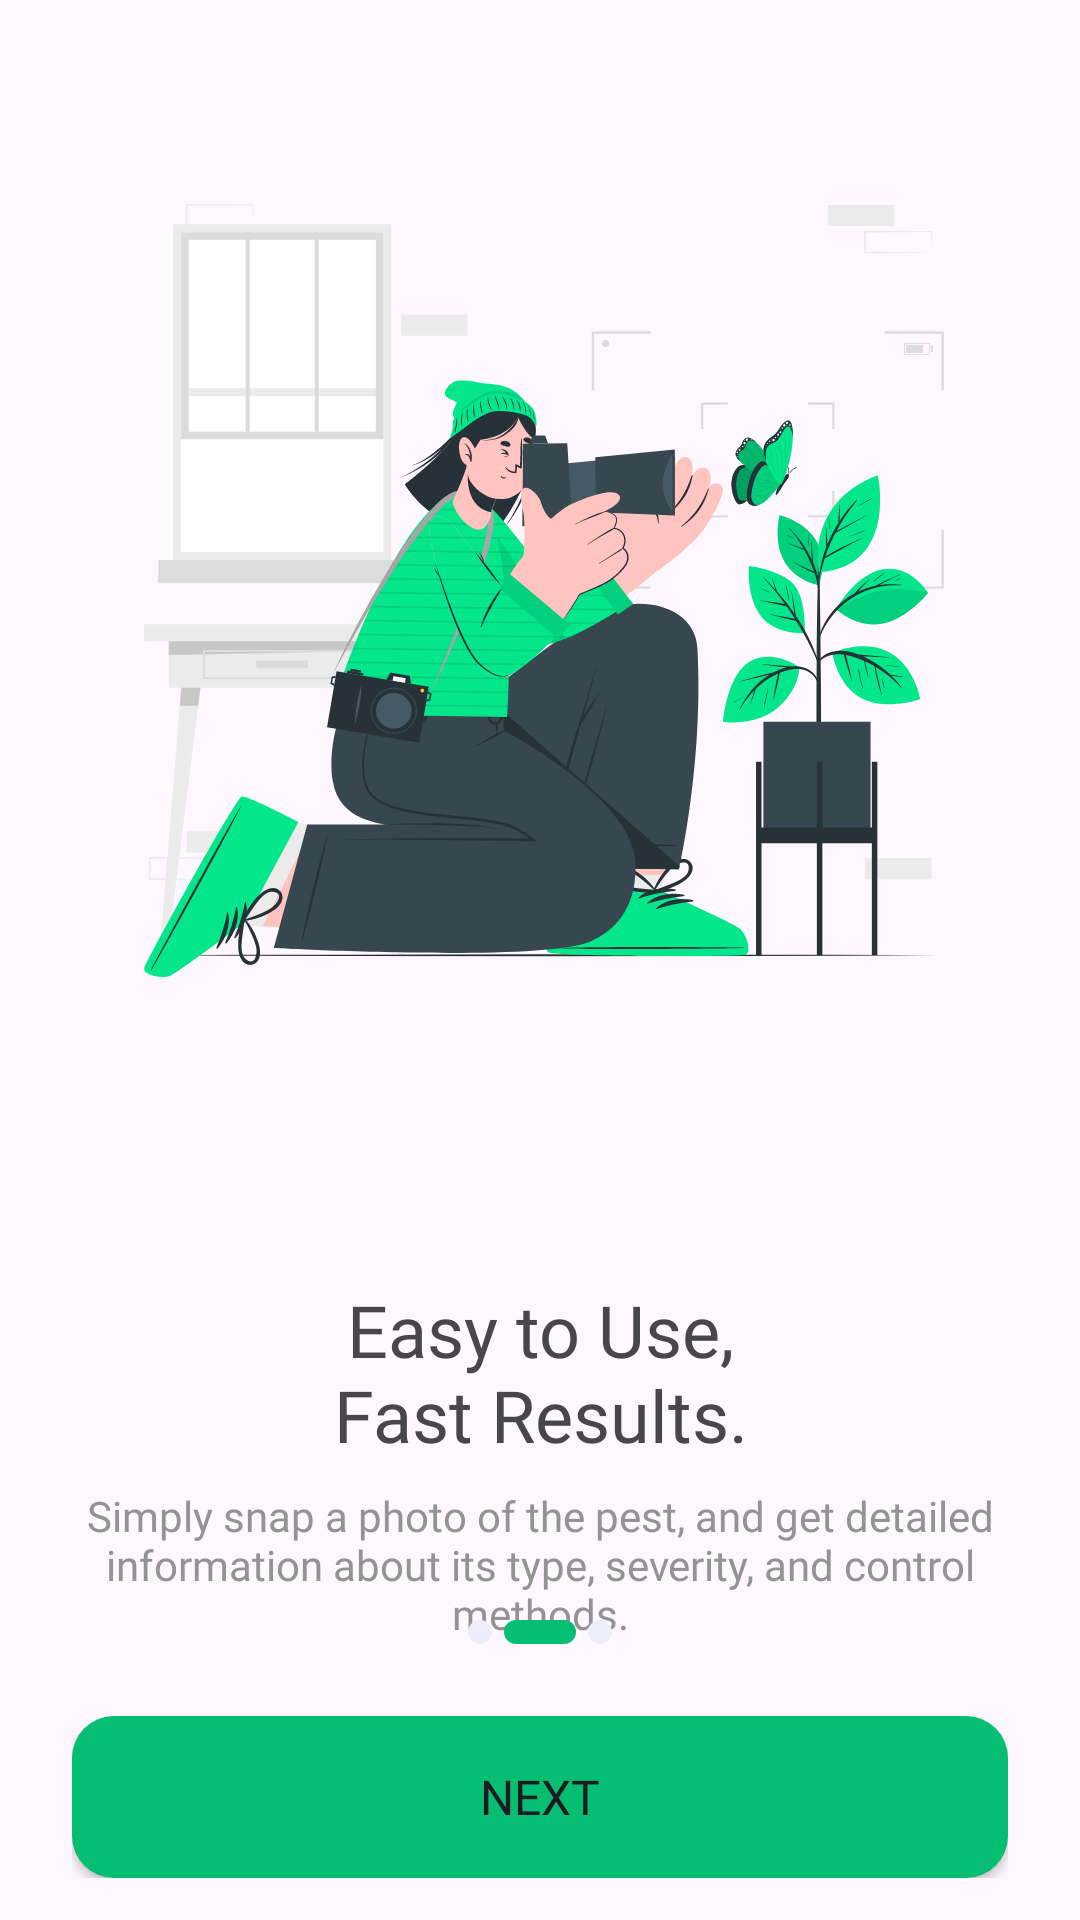

Point at icon controls on the screen. Image size 1080*1920, points as (x,y).
Boarding indicators: (540,1632)
